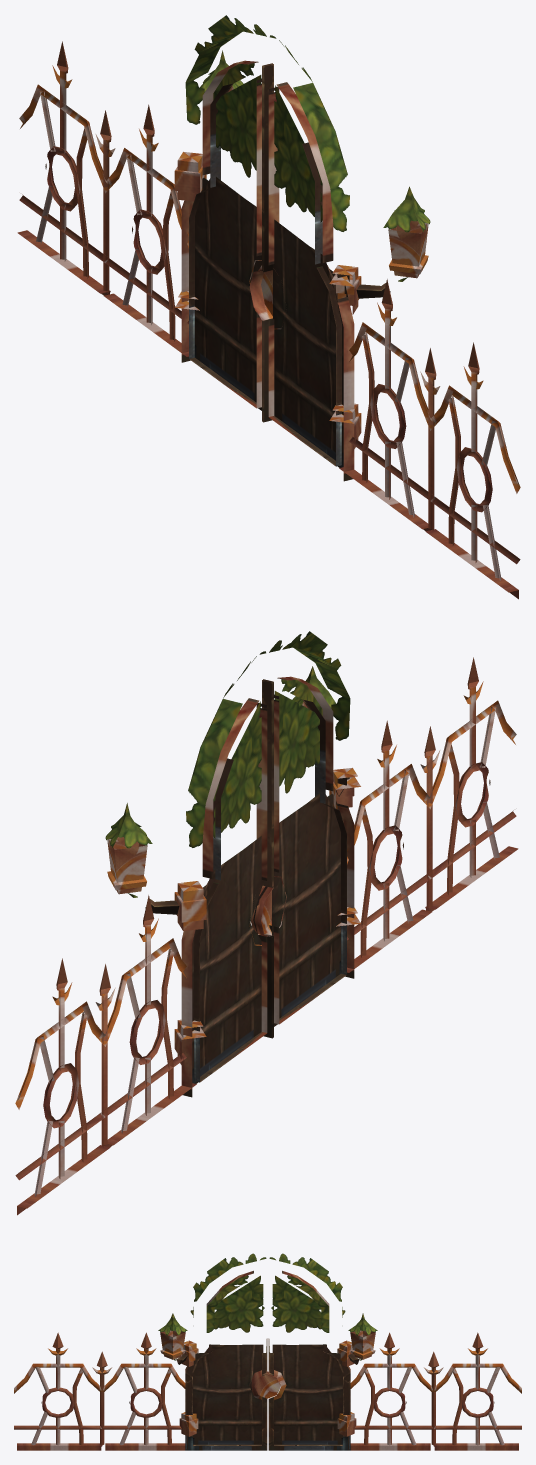
File: building_city_zhuchengdoor01.FBX
3 views of the same model, one above another, from view 1: azimuth 30°, elevation 25°; view 2: azimuth 150°, elevation 25°; view 3: azimuth 270°, elevation 25° (orthographic). The views are drawn at different scales.
Parts seen in each view (by area): view 1: building_city_zhuchengdoor01; view 2: building_city_zhuchengdoor01; view 3: building_city_zhuchengdoor01.
Part boxes in pixels (<box>): building_city_zhuchengdoor01: <box>17,15,520,599</box>; building_city_zhuchengdoor01: <box>15,631,518,1215</box>; building_city_zhuchengdoor01: <box>14,1253,521,1450</box>.
Size of the model in its own units: 1.21 by 11.76 by 5.19.
